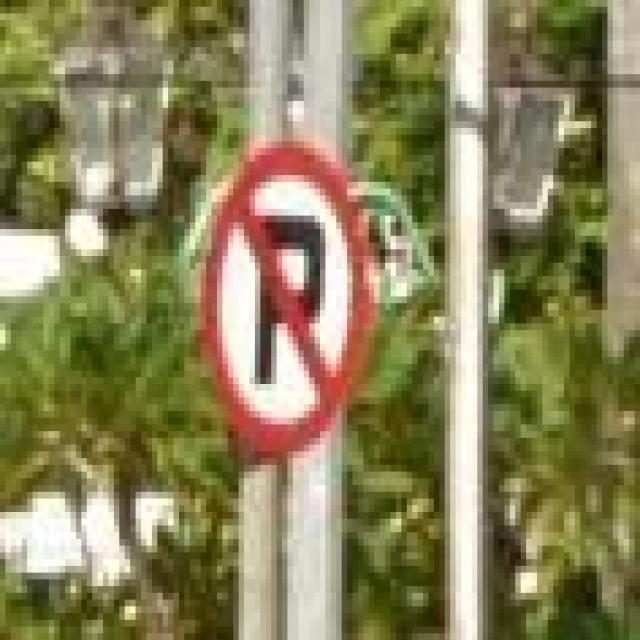traffic sign: (196, 155, 364, 452)
